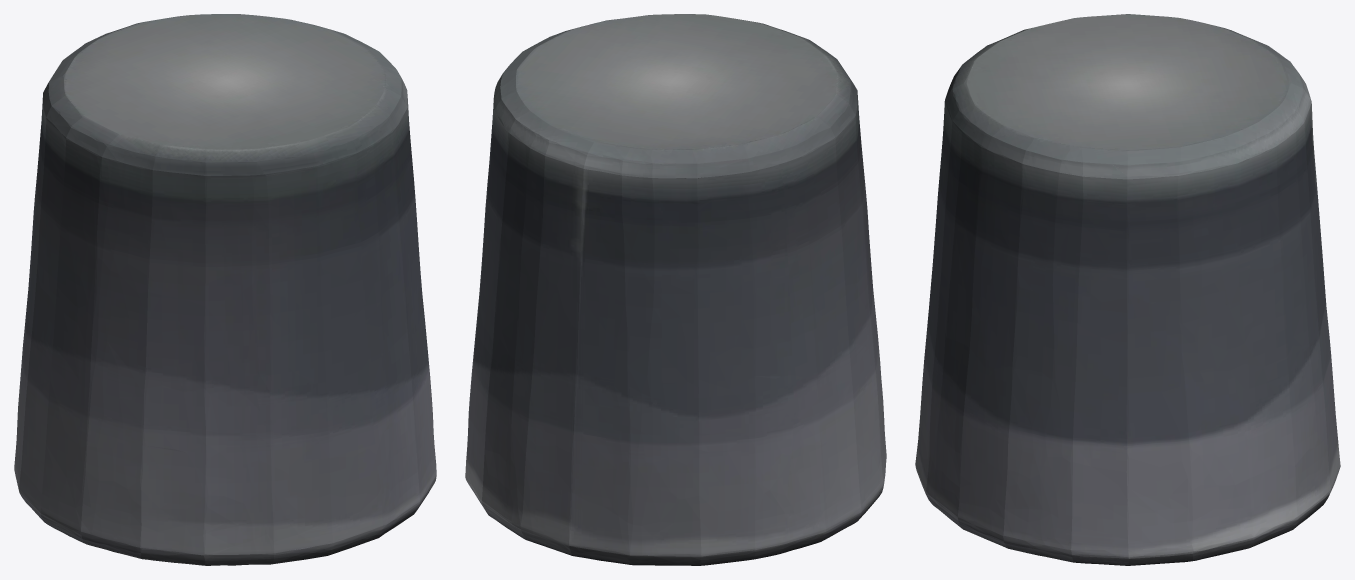
Rendered from 1725b50e-deb6-4540-933e-eb61187af267.glb.
3 views of the same model, side by side, from view 1: azimuth 30°, elevation 25°; view 2: azimuth 150°, elevation 25°; view 3: azimuth 270°, elevation 25° (orthographic).
Visible parts, largest first — view 1: world; view 2: world; view 3: world.
Part boxes in pixels (<box>): world: <box>14,14,436,565</box>; world: <box>465,14,886,565</box>; world: <box>915,14,1340,565</box>.
Bounding box in the file's own units: 0.5334 × 0.5495 × 0.5334.
1 material, 1 textured.
